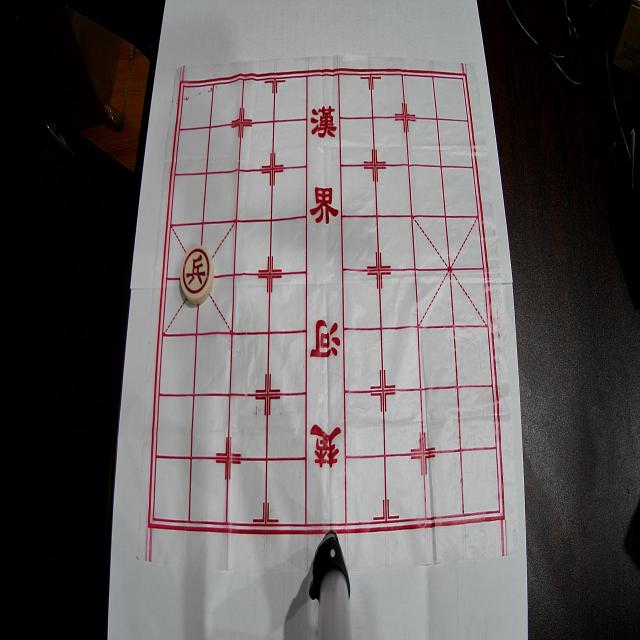red-soldier: (180, 245, 214, 304)
